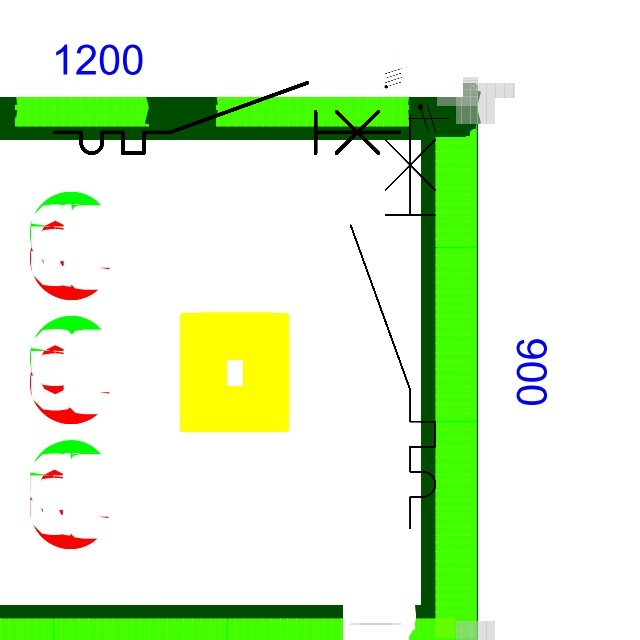interruptor_termomagnetico: (340, 104, 446, 539), (46, 74, 408, 162)
